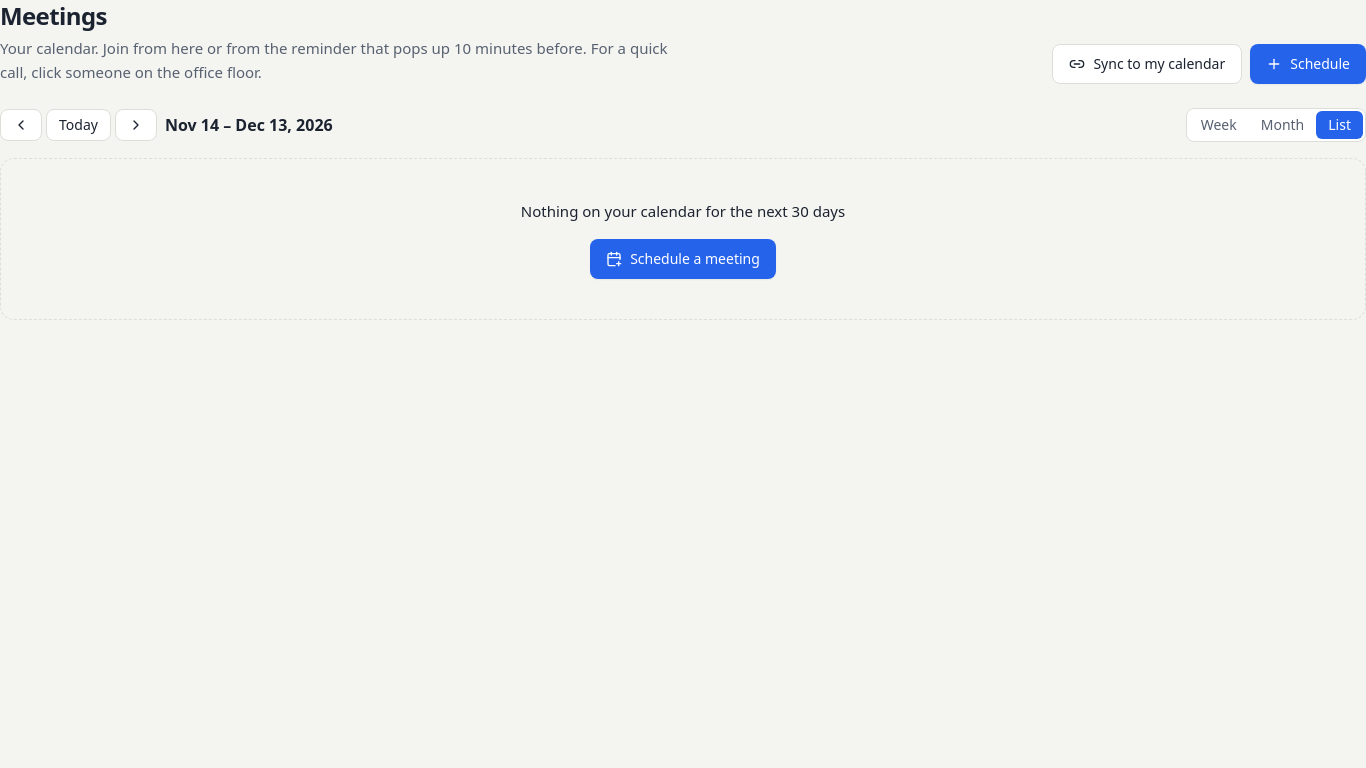
Test: Meetings page › schedules a meeting in the chosen time zone
expect the text "Nothing on your calendar for the next 30 days" is shown: met, box [521,201,845,221]
Click the button "Schedule".
click(1308, 64)  # box [1250,44,1365,84]
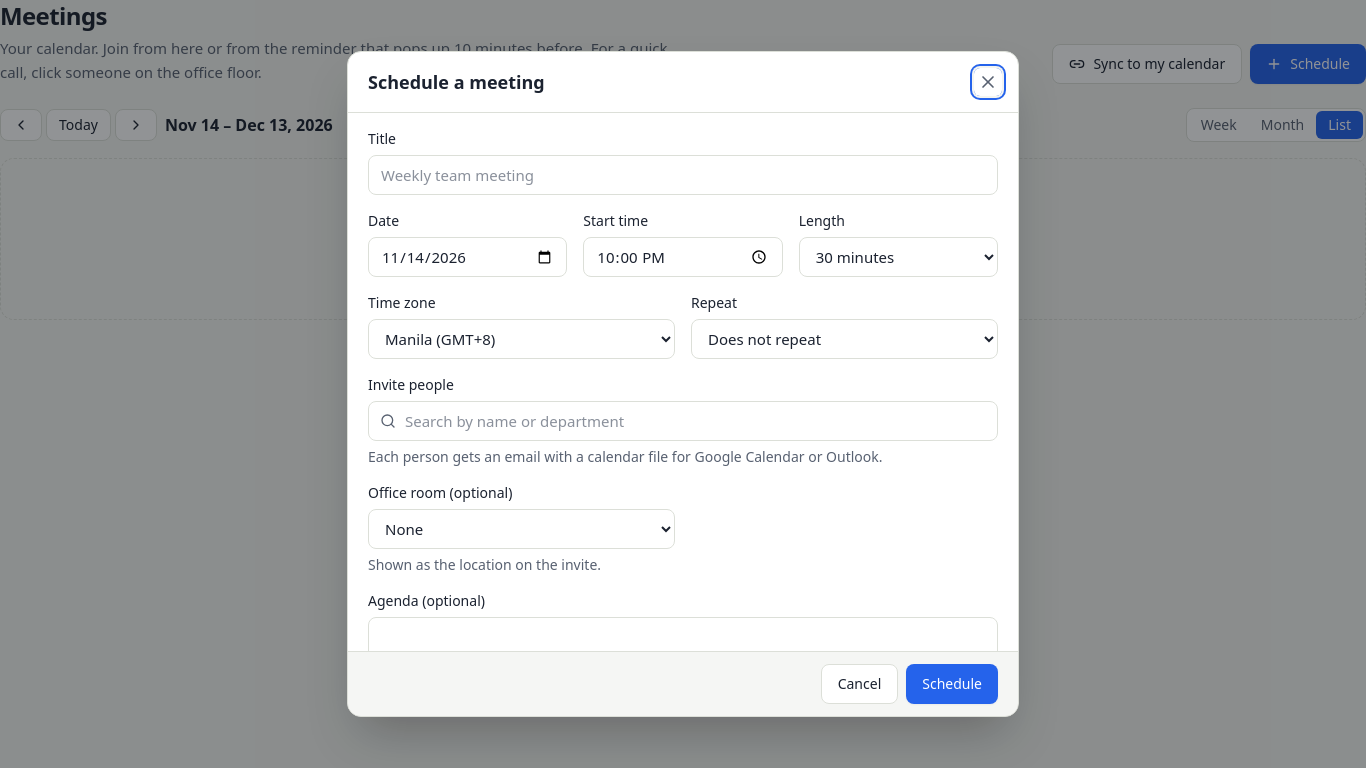
Type "Sprint planning" into the field labelled "Title".
click(683, 175); type("Sprint planning")  # box [368,155,998,195]
Type "2027-01-04" into the date field labelled "Date".
click(468, 257); type("2027-01-04")  # box [368,237,567,277]
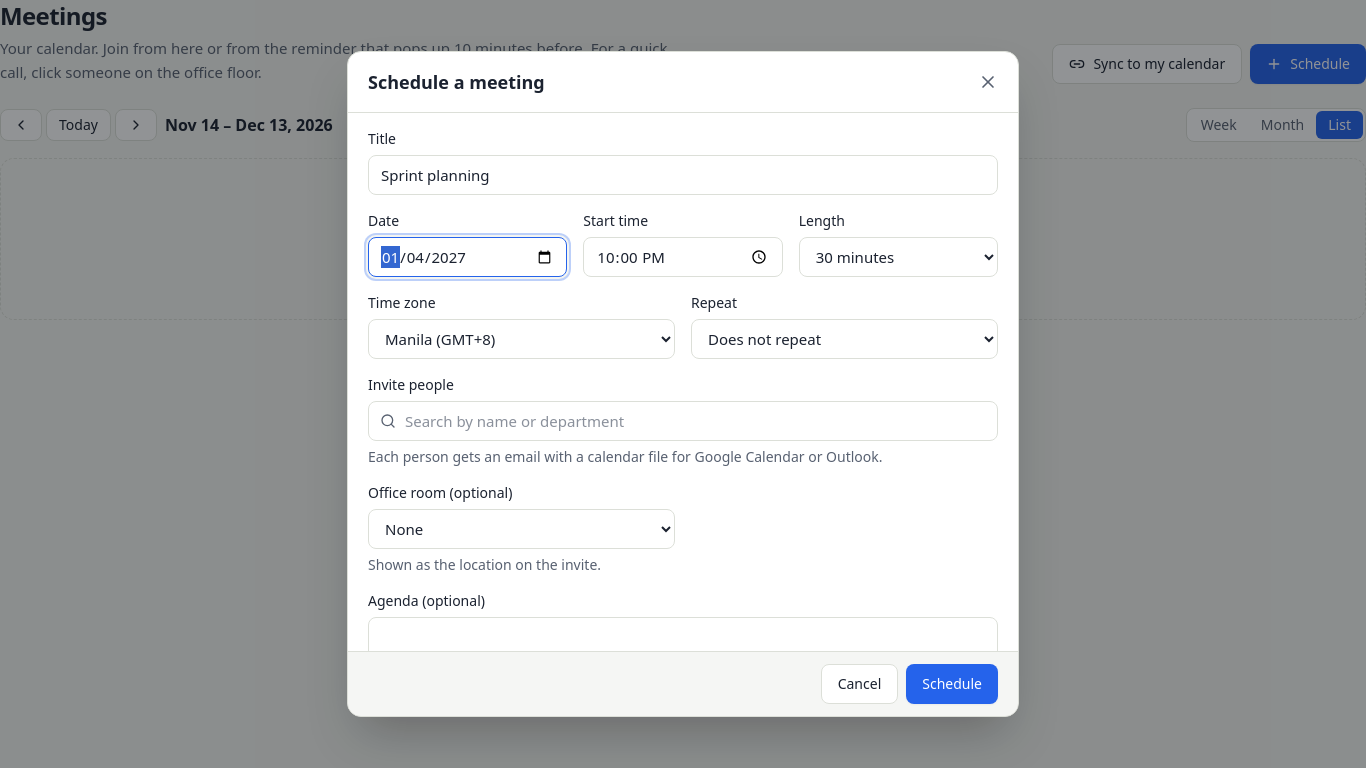
Replace the text in the time field labelled "Start time" with "09:00" at (683, 257), box [583,237,783,277]
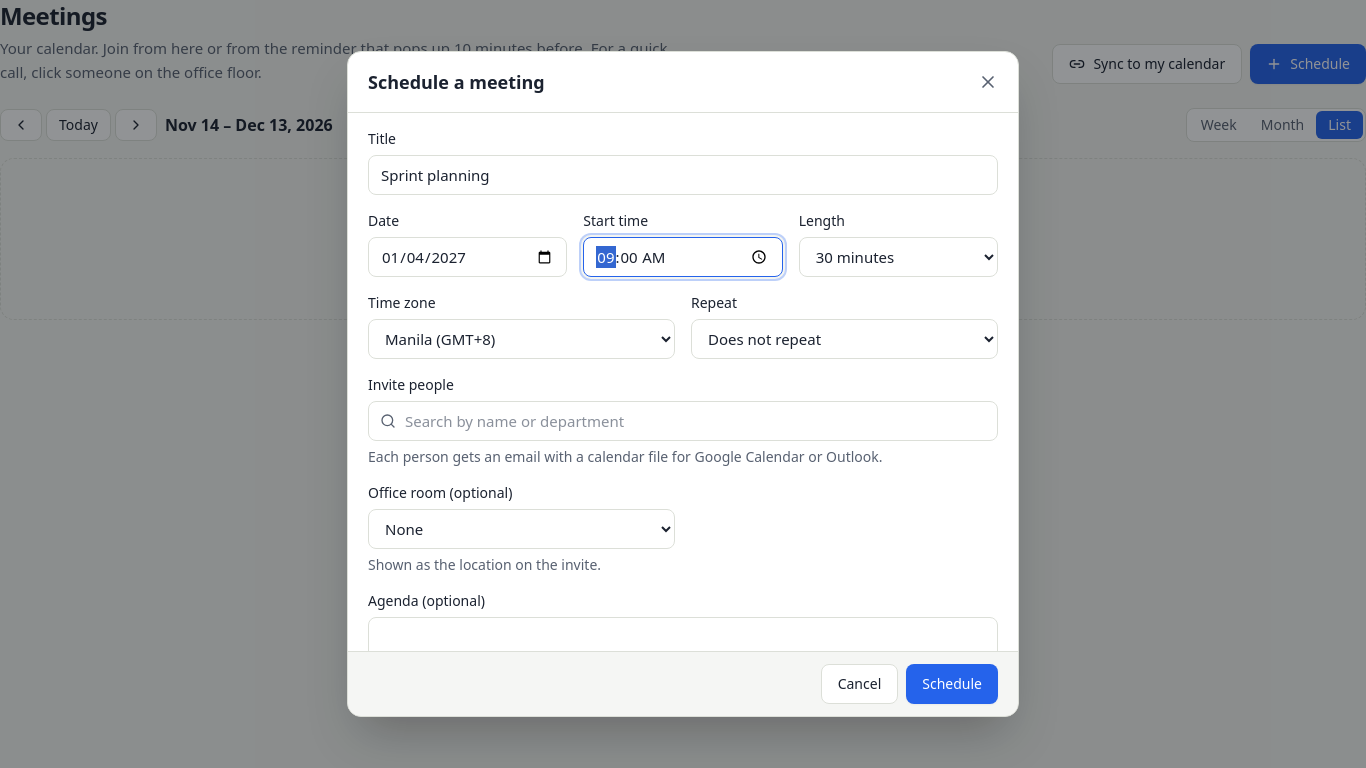
Select "1 hour" in the dropdown labelled "Length" at (898, 257), box [799,237,998,277]
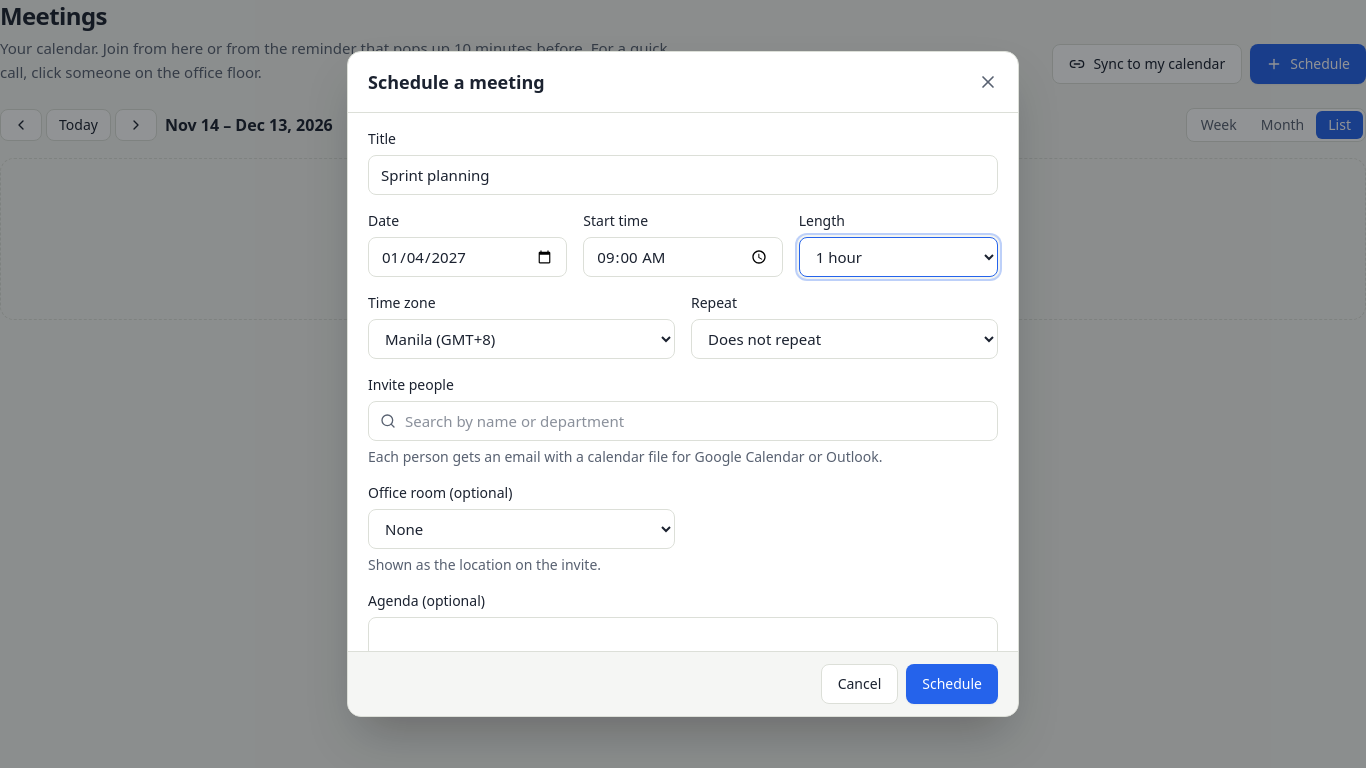
Select "Every week" in the dropdown labelled "Repeat" at (844, 339), box [691,319,998,359]
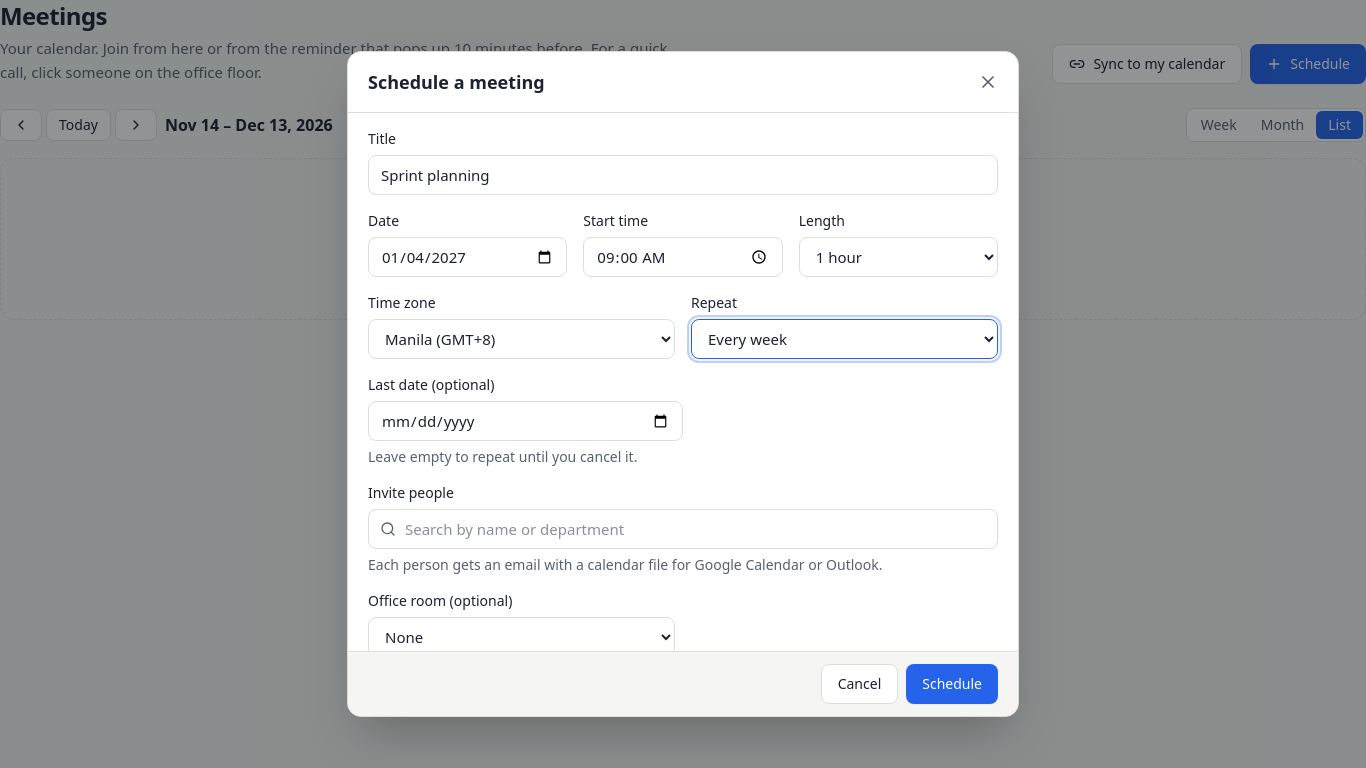
Click the button "Schedule".
click(952, 684)  # box [906,664,998,704]
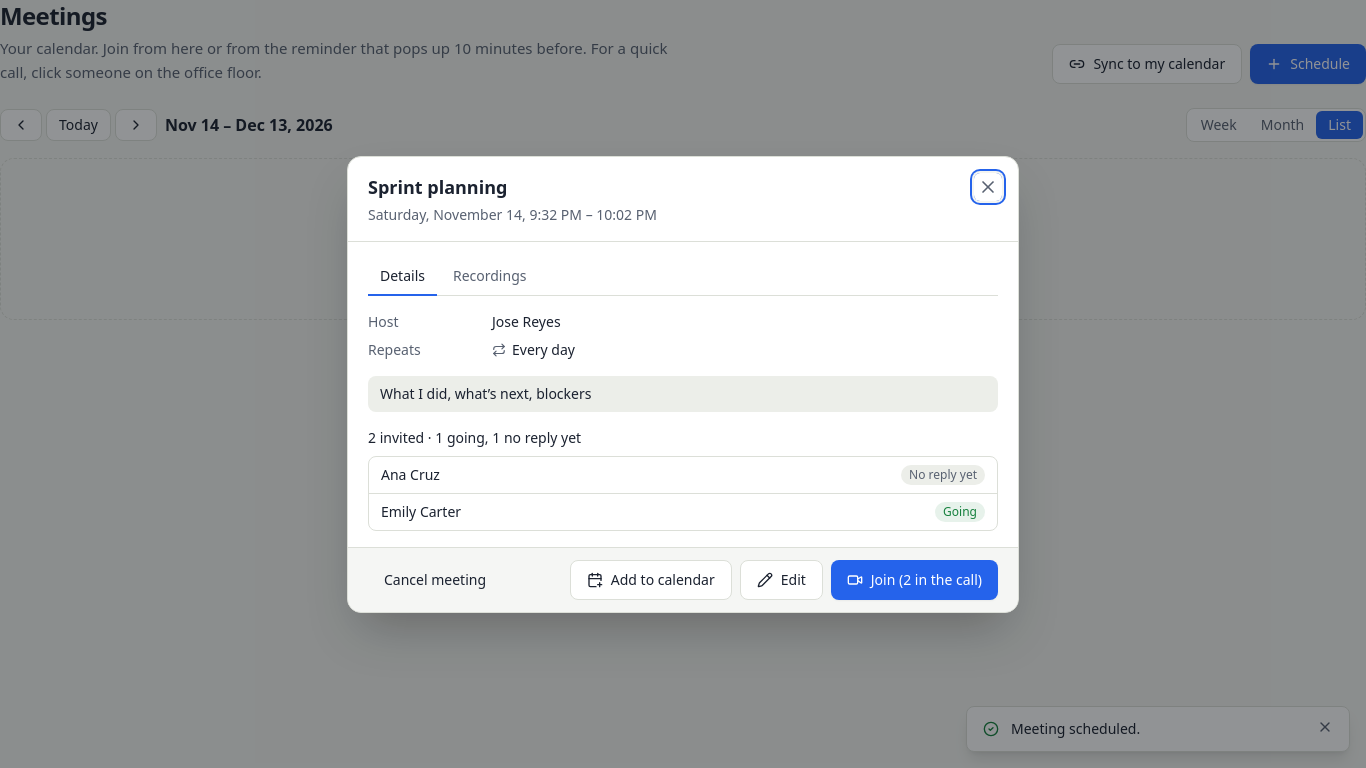
expect the dialog "Sprint planning" is shown: met, box [347,156,1019,612]
